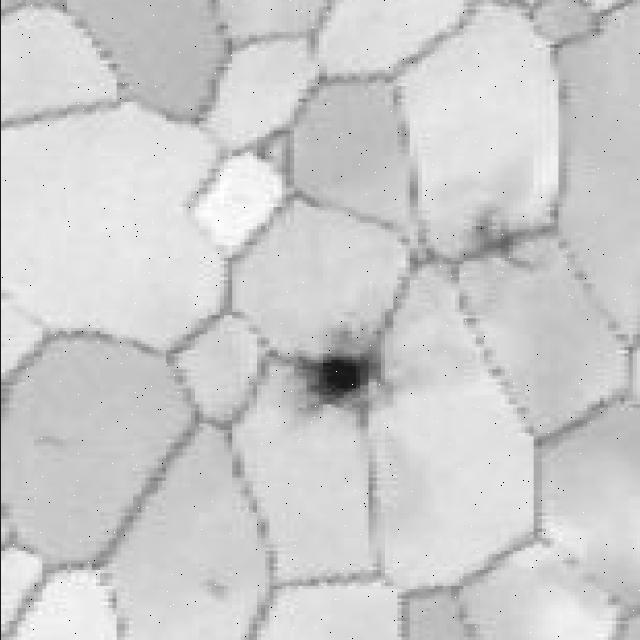good_void: (290, 343, 389, 415), (468, 211, 529, 270), (201, 571, 228, 604)
